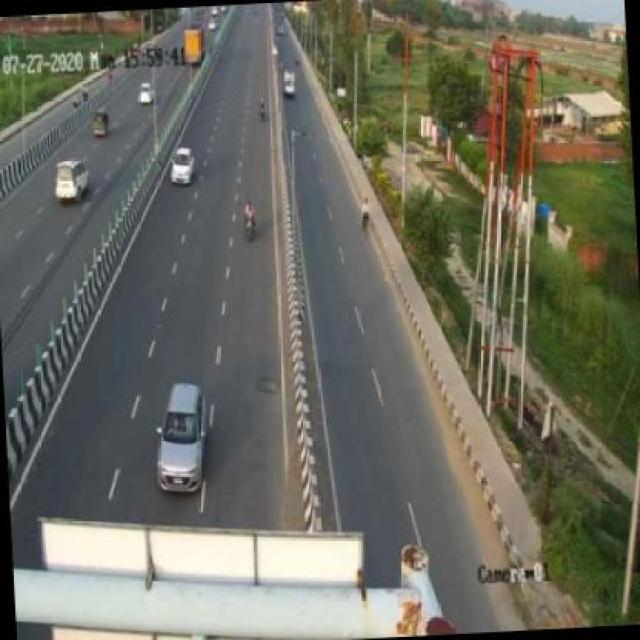car: (148, 375, 214, 503), (45, 152, 97, 211), (88, 102, 117, 143), (169, 146, 194, 186), (131, 77, 154, 111)
